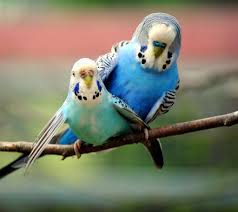budgie: (57, 57, 132, 159), (109, 13, 186, 108)
